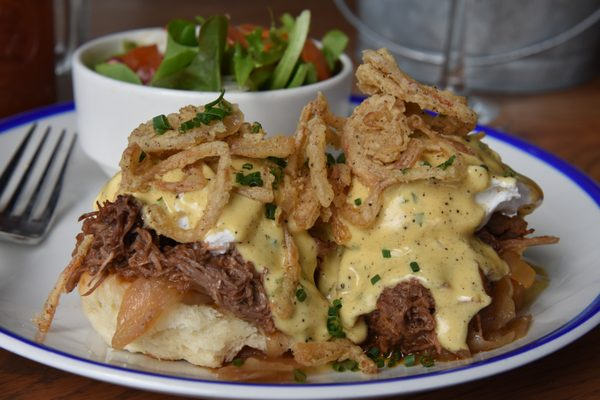burger: (0, 120, 79, 245)
sushi: (72, 7, 356, 171)
